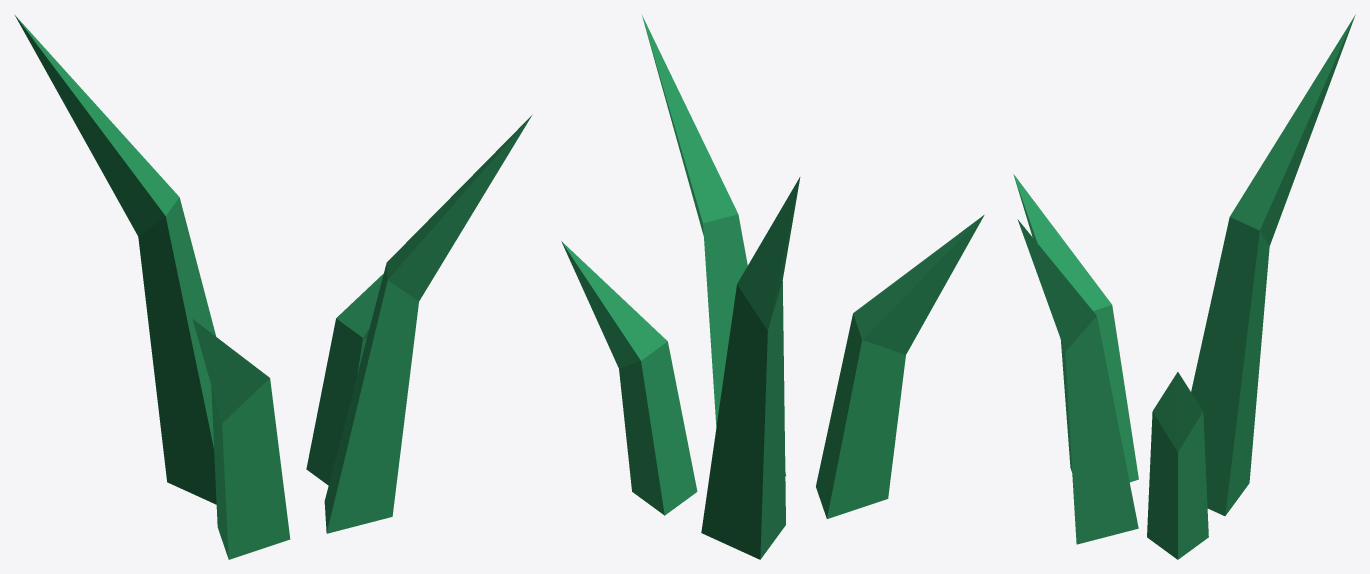
The model's file is gras_01.fbx.
3 views of the same model, side by side, from view 1: azimuth 30°, elevation 25°; view 2: azimuth 150°, elevation 25°; view 3: azimuth 270°, elevation 25° (orthographic). The views are drawn at different scales.
Visible parts, largest first — view 1: Circle.005; view 2: Circle.005; view 3: Circle.005.
Part boxes in pixels (x1=…): Circle.005: x1=14, y1=14, x2=531, y2=559; Circle.005: x1=561, y1=15, x2=984, y2=559; Circle.005: x1=1013, y1=15, x2=1355, y2=559.
Bounding box in the file's own units: 0.4077 × 0.5122 × 0.3746.
